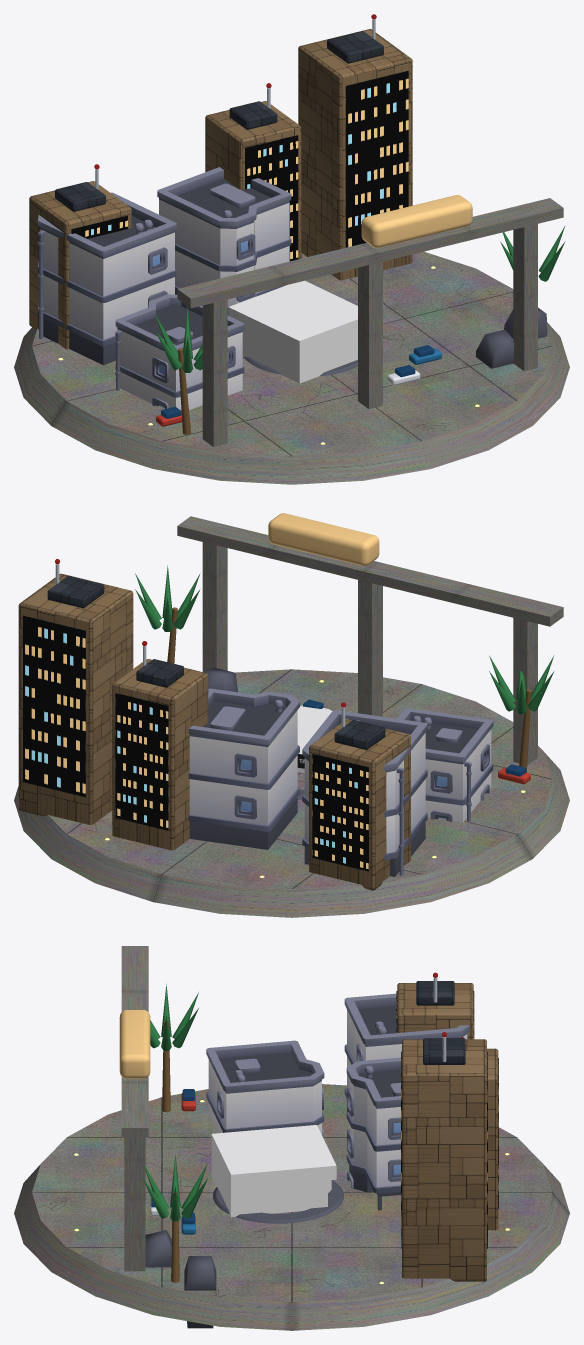
Rendered from town-T4.glb.
The picture shows the model from 3 angles, top to bottom: view 1: azimuth 30°, elevation 25°; view 2: azimuth 150°, elevation 25°; view 3: azimuth 270°, elevation 25°; orthographic projection.
Parts seen in each view (by area): view 1: object 1, building-a, object 39, building-b, Mesh_noExport, object 40, building-c, object 65, object 21, object 45, object 66, object 69 (+9 smaller); view 2: object 1, building-b, object 39, object 41, object 65, object 45, building-c, object 47, object 21, building-a, object 23, object 69 (+9 smaller); view 3: object 1, object 39, Mesh_noExport, building-c, building-b, building-a, object 65, object 68, object 21, grass, object 69, object 45 (+5 smaller).
Boxes of the visible parts, x1,y1,x2,y2 form: object 1: [14, 251, 569, 484]; building-a: [37, 192, 176, 365]; object 39: [298, 29, 412, 280]; building-b: [157, 167, 291, 315]; Mesh_noExport: [228, 280, 357, 383]; object 40: [345, 70, 408, 247]; building-c: [115, 294, 244, 409]; object 65: [177, 198, 563, 308]; object 21: [29, 181, 131, 349]; object 45: [205, 101, 301, 259]; object 66: [202, 299, 227, 446]; object 69: [361, 195, 472, 248]; object 1: [14, 669, 569, 917]; building-b: [188, 688, 299, 849]; object 39: [18, 573, 133, 824]; object 41: [23, 615, 85, 797]; object 65: [177, 516, 563, 626]; object 45: [112, 659, 208, 850]; building-c: [397, 708, 493, 822]; object 47: [115, 693, 168, 830]; object 21: [309, 719, 410, 890]; building-a: [302, 710, 427, 876]; object 23: [312, 753, 368, 871]; object 69: [268, 513, 379, 566]; object 1: [14, 1084, 569, 1330]; object 39: [402, 1039, 486, 1281]; Mesh_noExport: [211, 1125, 336, 1217]; building-c: [206, 1040, 324, 1138]; building-b: [346, 1057, 400, 1210]; building-a: [344, 993, 470, 1112]; object 65: [121, 946, 148, 1137]; object 68: [124, 1137, 145, 1271]; object 21: [397, 983, 473, 1039]; grass: [145, 1230, 216, 1328]; object 69: [119, 1010, 150, 1078]; object 45: [487, 1048, 498, 1230].
Size of the model in its own units: 6.2 by 3.47 by 6.2.
41 materials, 12 textured.
